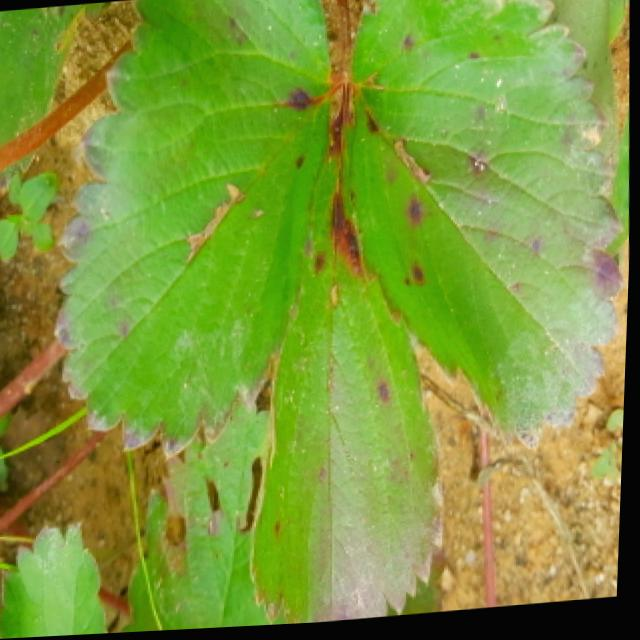Leaf Spot: (55, 0, 342, 464), (341, 0, 625, 458), (252, 174, 451, 628), (544, 0, 619, 180)
